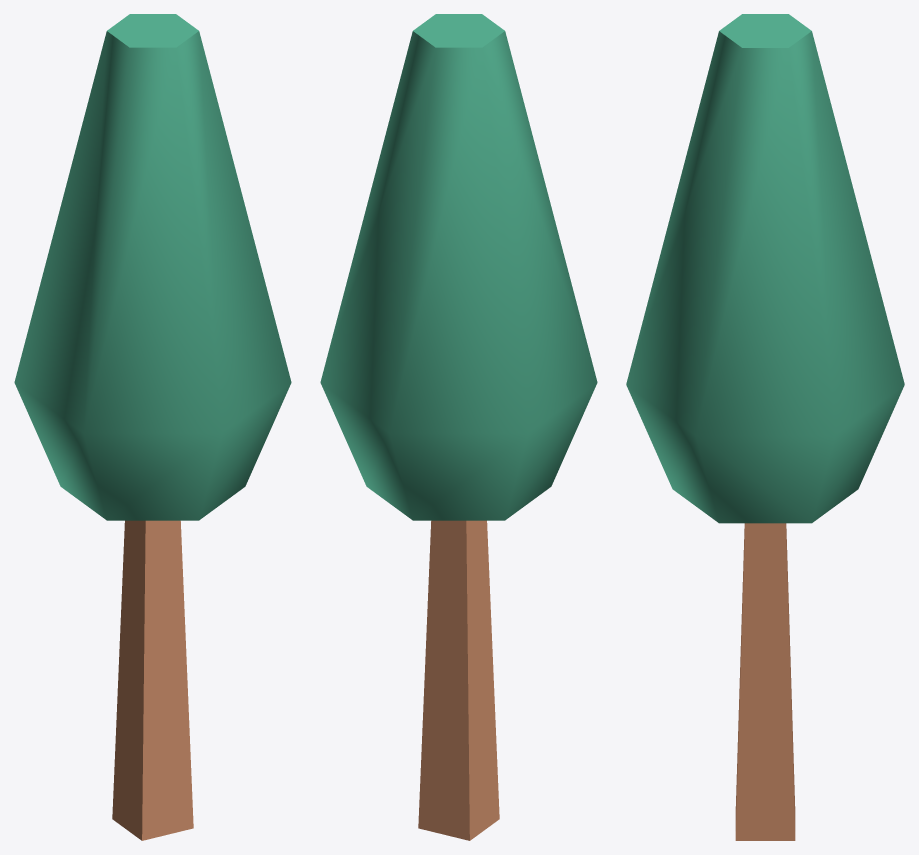
Rendered from tree_large.obj.
The picture shows the model from 3 angles, left to right: view 1: azimuth 30°, elevation 25°; view 2: azimuth 150°, elevation 25°; view 3: azimuth 270°, elevation 25°; orthographic projection.
Parts seen in each view (by area): view 1: tree_large; view 2: tree_large; view 3: tree_large.
Boxes of the visible parts, x1,y1,x2,y2 form: tree_large: (14,14,291,840); tree_large: (320,14,597,840); tree_large: (626,14,904,840).
Size of the model in its own units: 0.2104 by 0.767 by 0.243.
